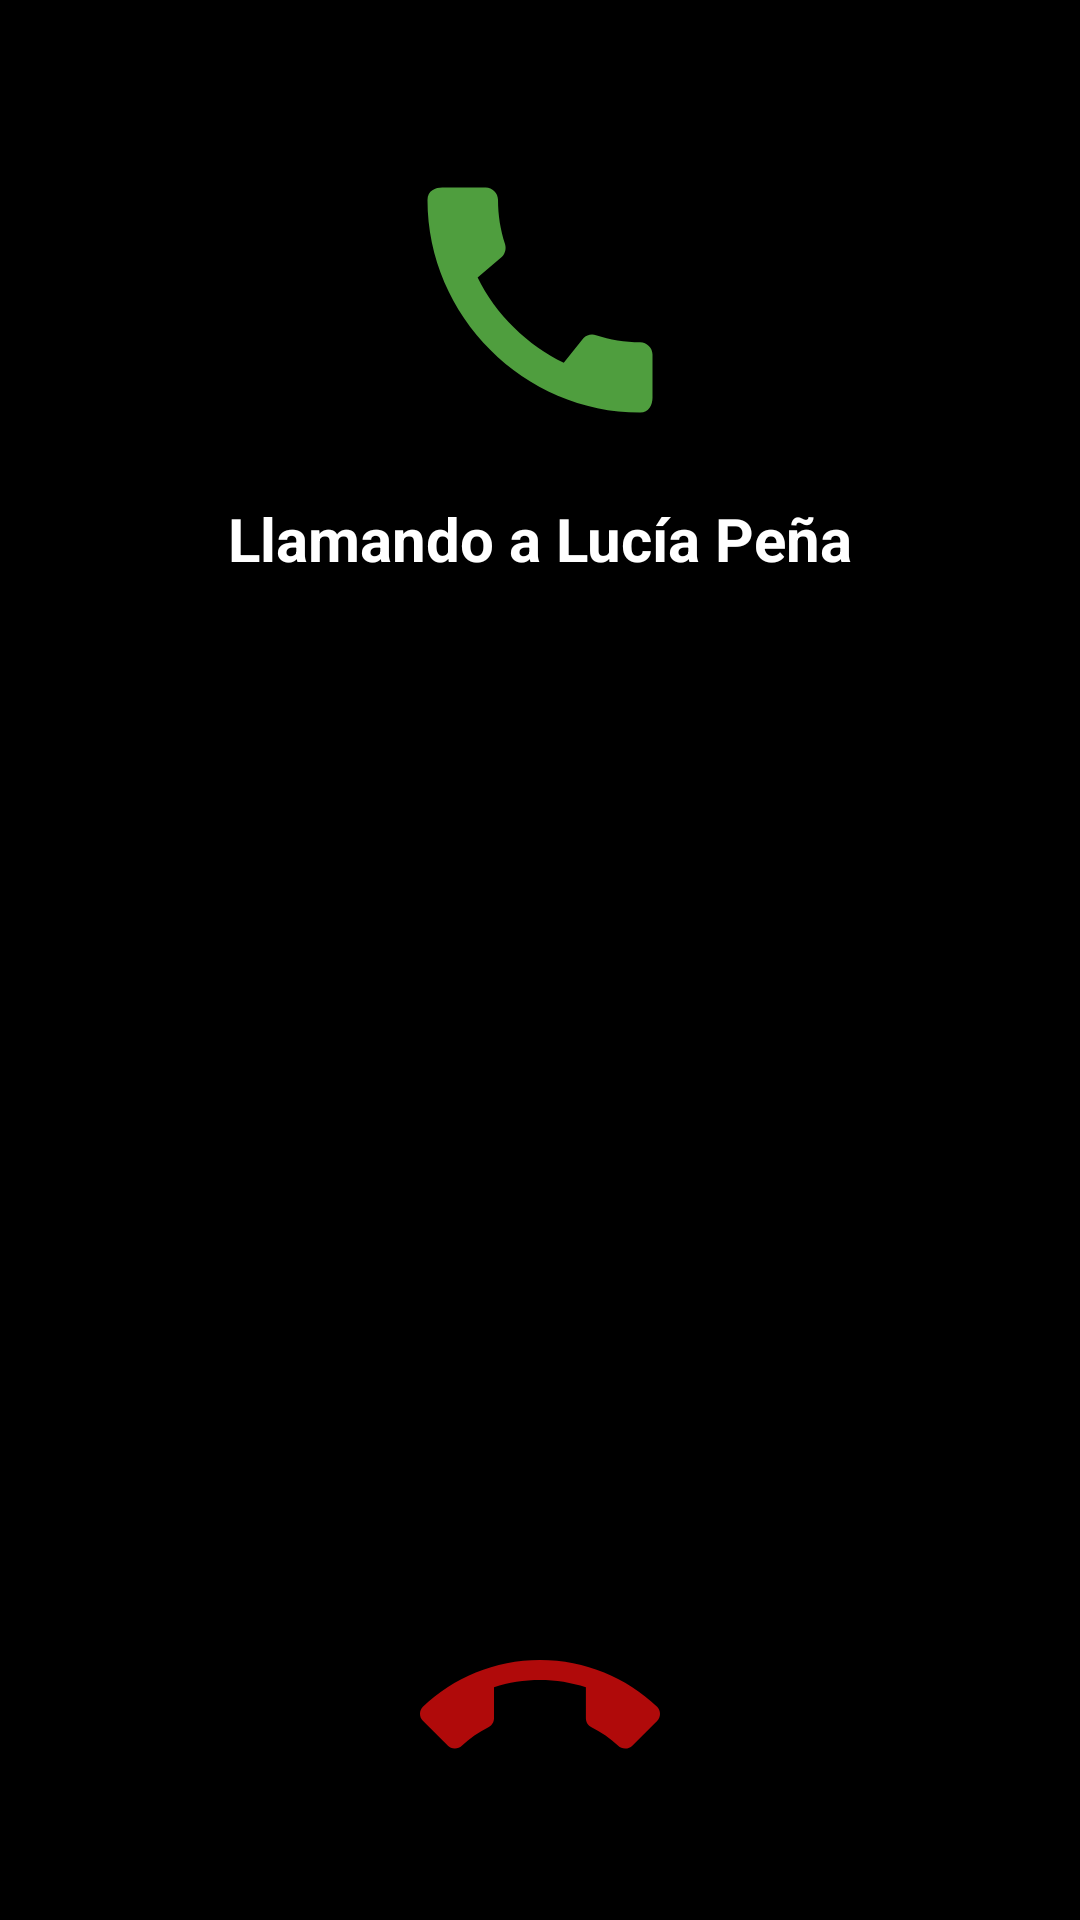

Point at icon controls on the screen. Image size 1080px×1920px, points as (x,y).
call end resource: (540,1704)
call resource: (540,300)
